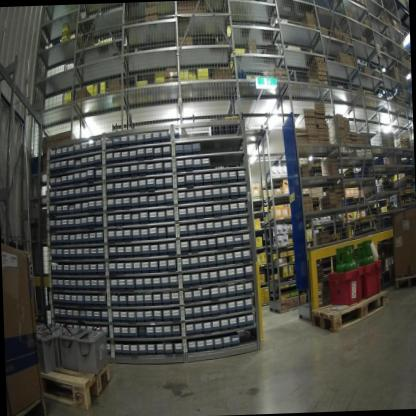pallet: (37, 356, 116, 415), (306, 288, 393, 335), (391, 269, 416, 293)
small_load_carrier: (326, 262, 365, 308), (360, 257, 386, 300)
